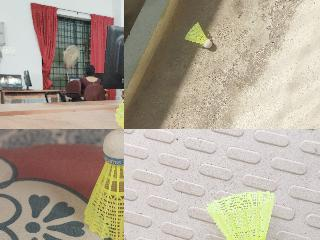shuttlecock: (82, 129, 123, 239), (205, 189, 275, 239), (184, 22, 212, 48), (115, 98, 123, 128)
